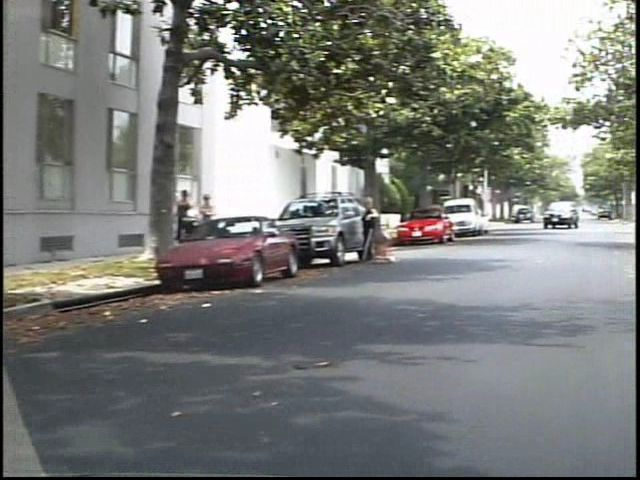person: (369, 193, 400, 271), (183, 185, 212, 253), (209, 189, 233, 251)
